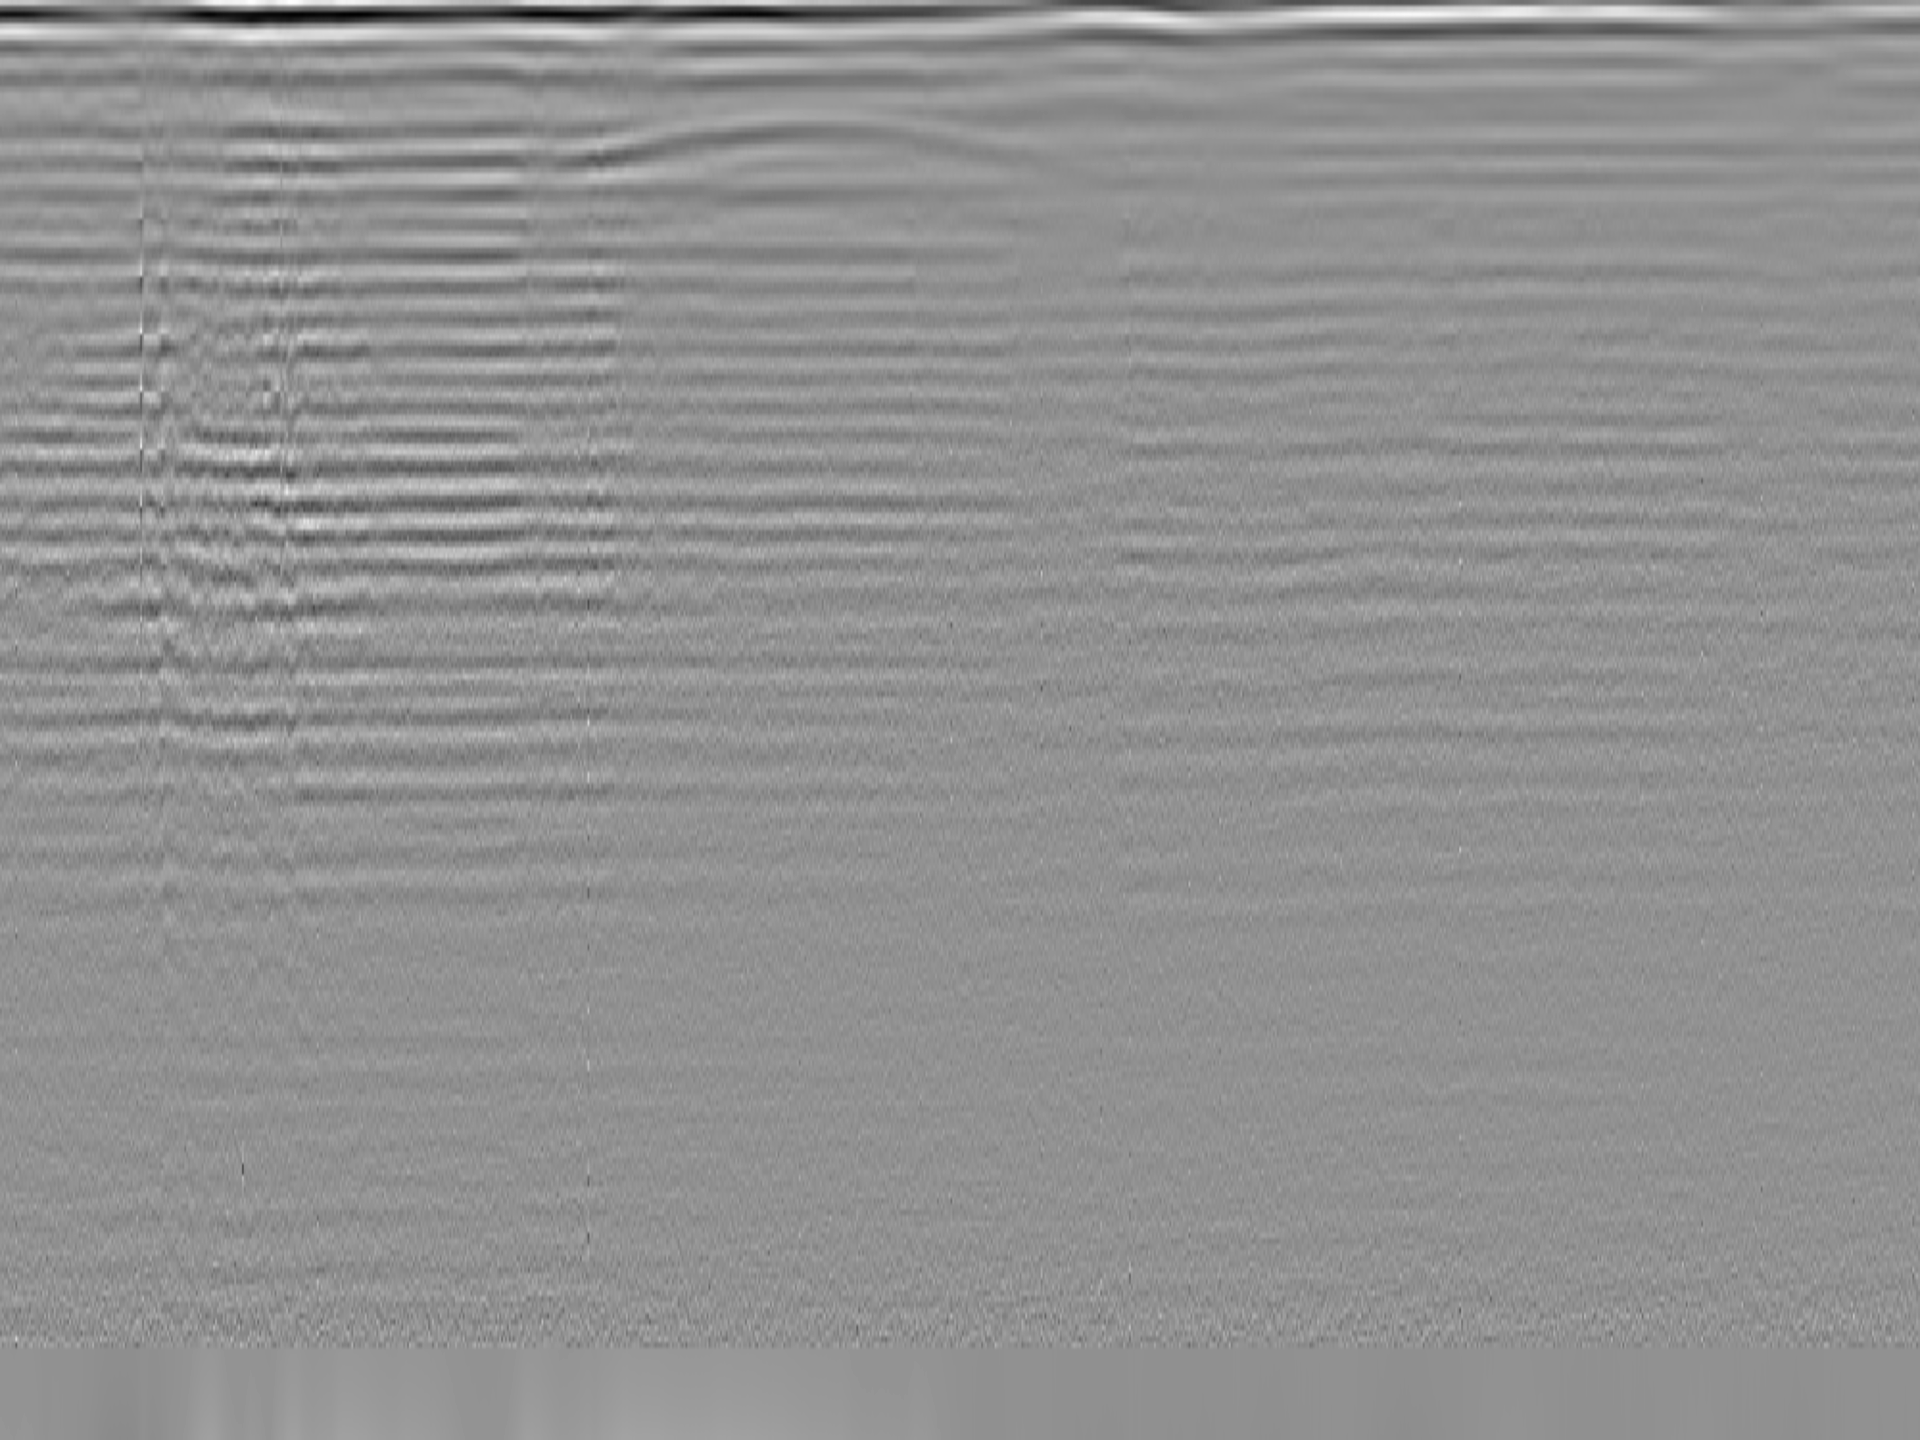Tunnel: (538, 118, 1067, 169)
